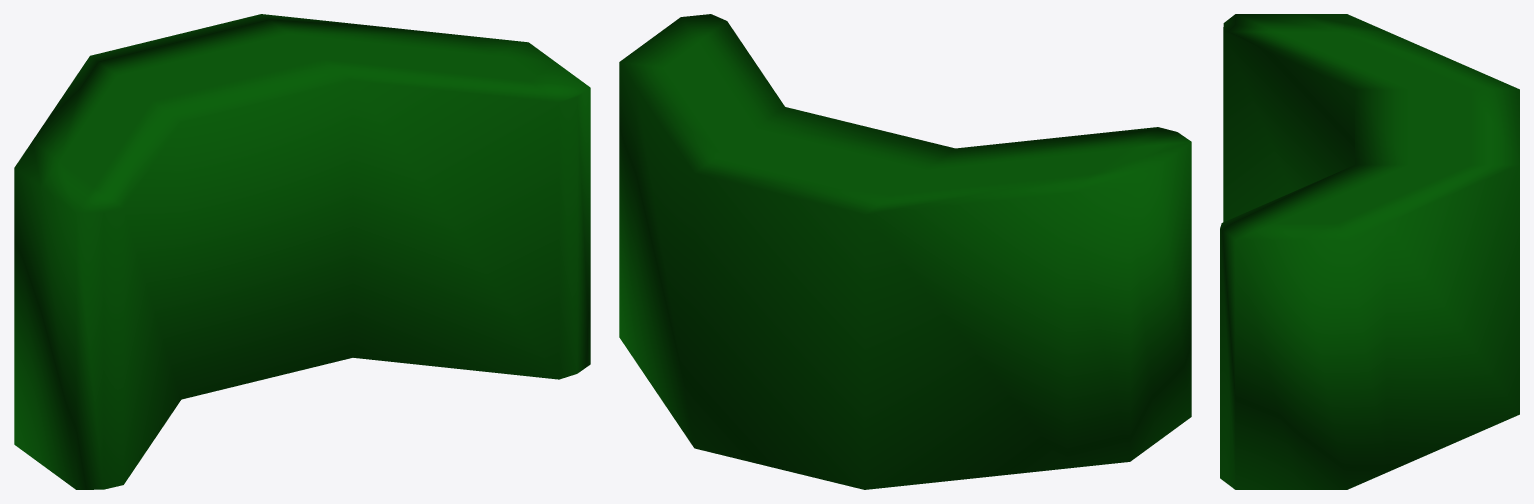
Rendered from yeşil çit U şeklinde.fbx.
The picture shows the model from 3 angles, left to right: view 1: azimuth 30°, elevation 25°; view 2: azimuth 150°, elevation 25°; view 3: azimuth 270°, elevation 25°; orthographic projection. The views are drawn at different scales.
Visible parts, largest first — view 1: Daire; view 2: Daire; view 3: Daire.
Part boxes in pixels (x1,y1,x2,y2): Daire: (14,14,590,489); Daire: (619,14,1191,489); Daire: (1220,14,1519,489).
Bounding box in the file's own units: 298 × 155 × 167.
